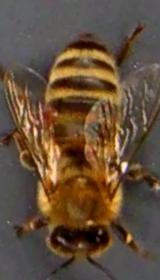varroa_mite: (30, 94, 66, 130)
